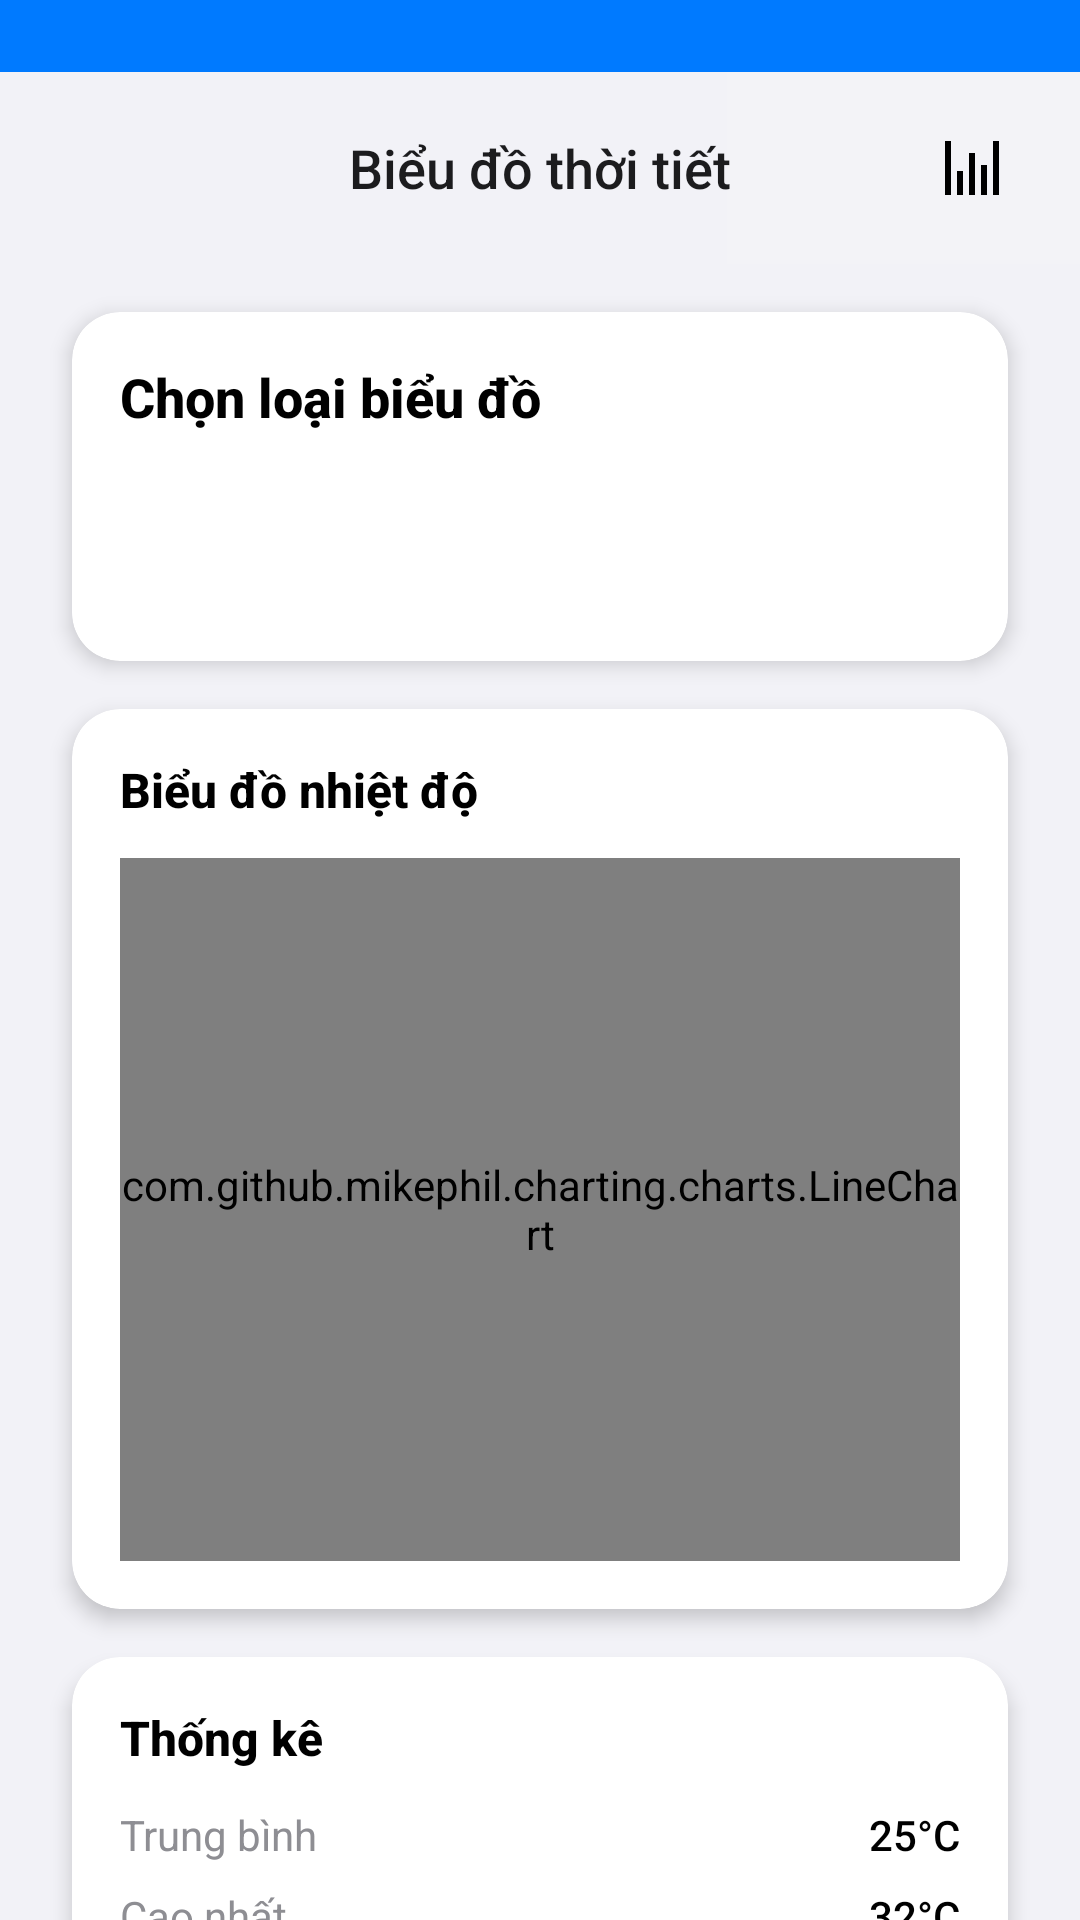

Named icons in this screenshot (1080px×1920px) and their centers, point (x, y):
Loại biểu đồ: point (972, 168)
